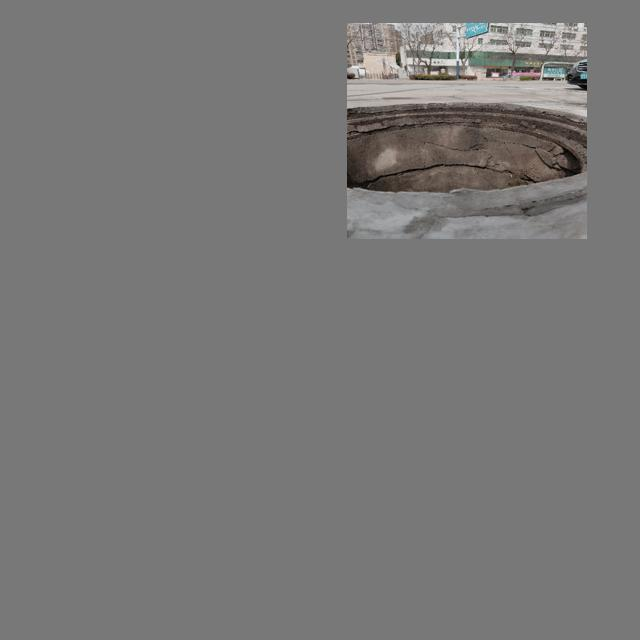lose: (349, 90, 587, 205)
